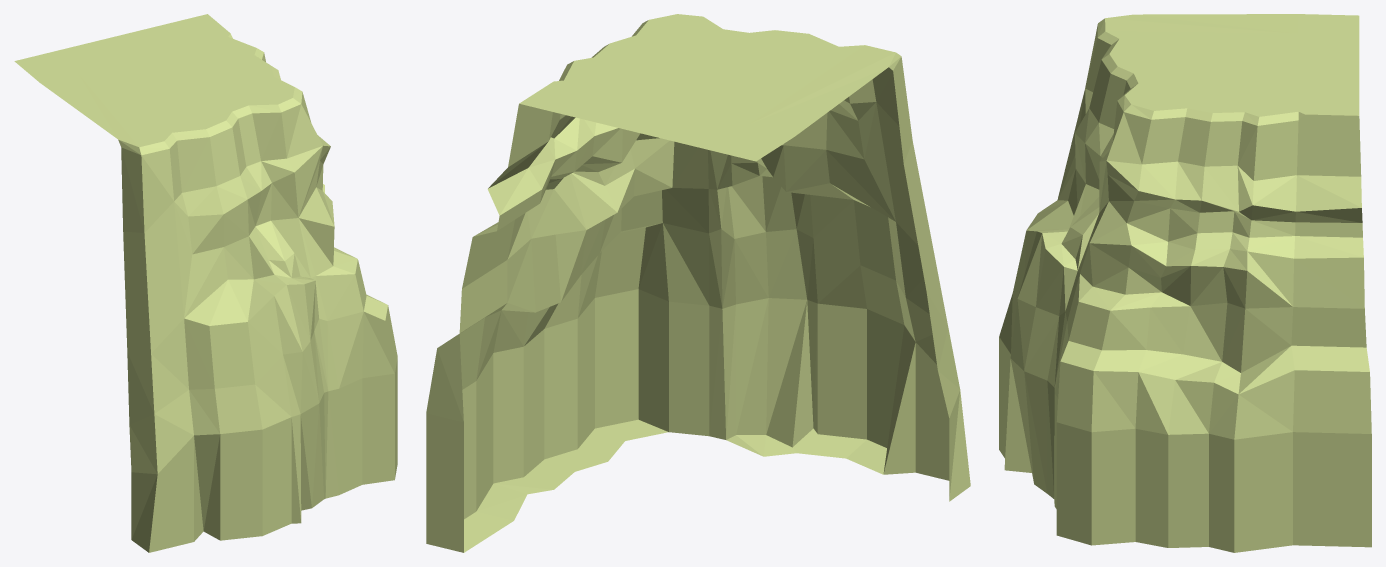
File: MESH_Falaise.obj
3 views of the same model, side by side, from view 1: azimuth 30°, elevation 25°; view 2: azimuth 150°, elevation 25°; view 3: azimuth 270°, elevation 25° (orthographic). The views are drawn at different scales.
Visible parts, largest first — view 1: Box001; view 2: Box001; view 3: Box001.
Part boxes in pixels (x1,y1,x2,y2): Box001: (14, 14, 397, 552); Box001: (426, 14, 970, 552); Box001: (999, 14, 1371, 552).
Size of the model in its own units: 1461 by 1778 by 1512.
